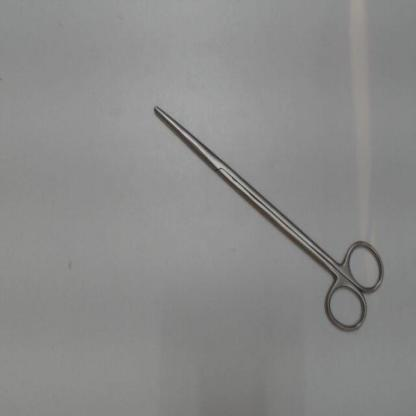9 Metzenbaum Scissors: (150, 101, 393, 340)
